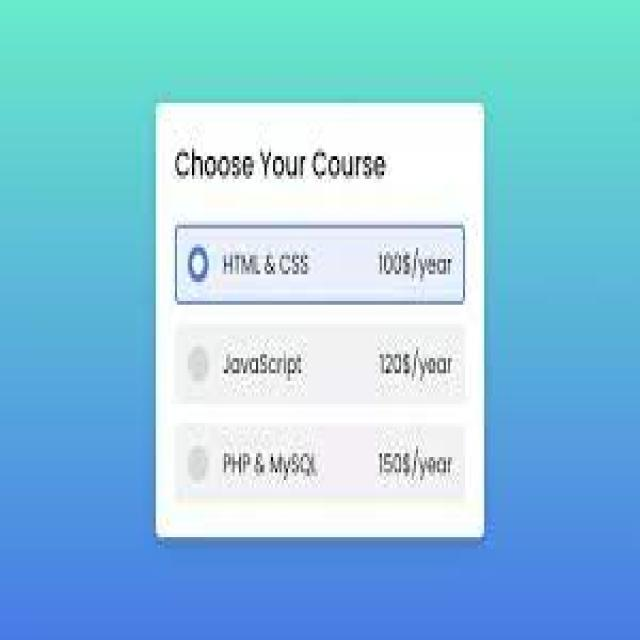radio: (182, 233, 460, 297), (189, 336, 459, 401), (187, 438, 460, 488)
text: (174, 147, 392, 188)
